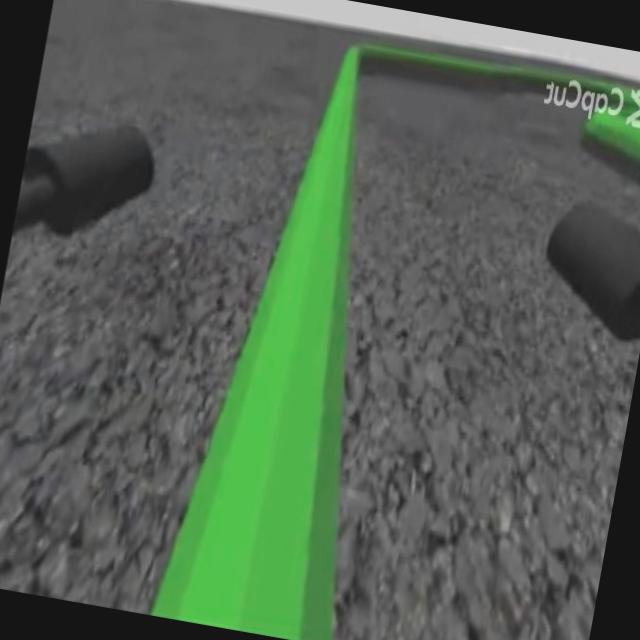gas: (148, 51, 431, 640)
